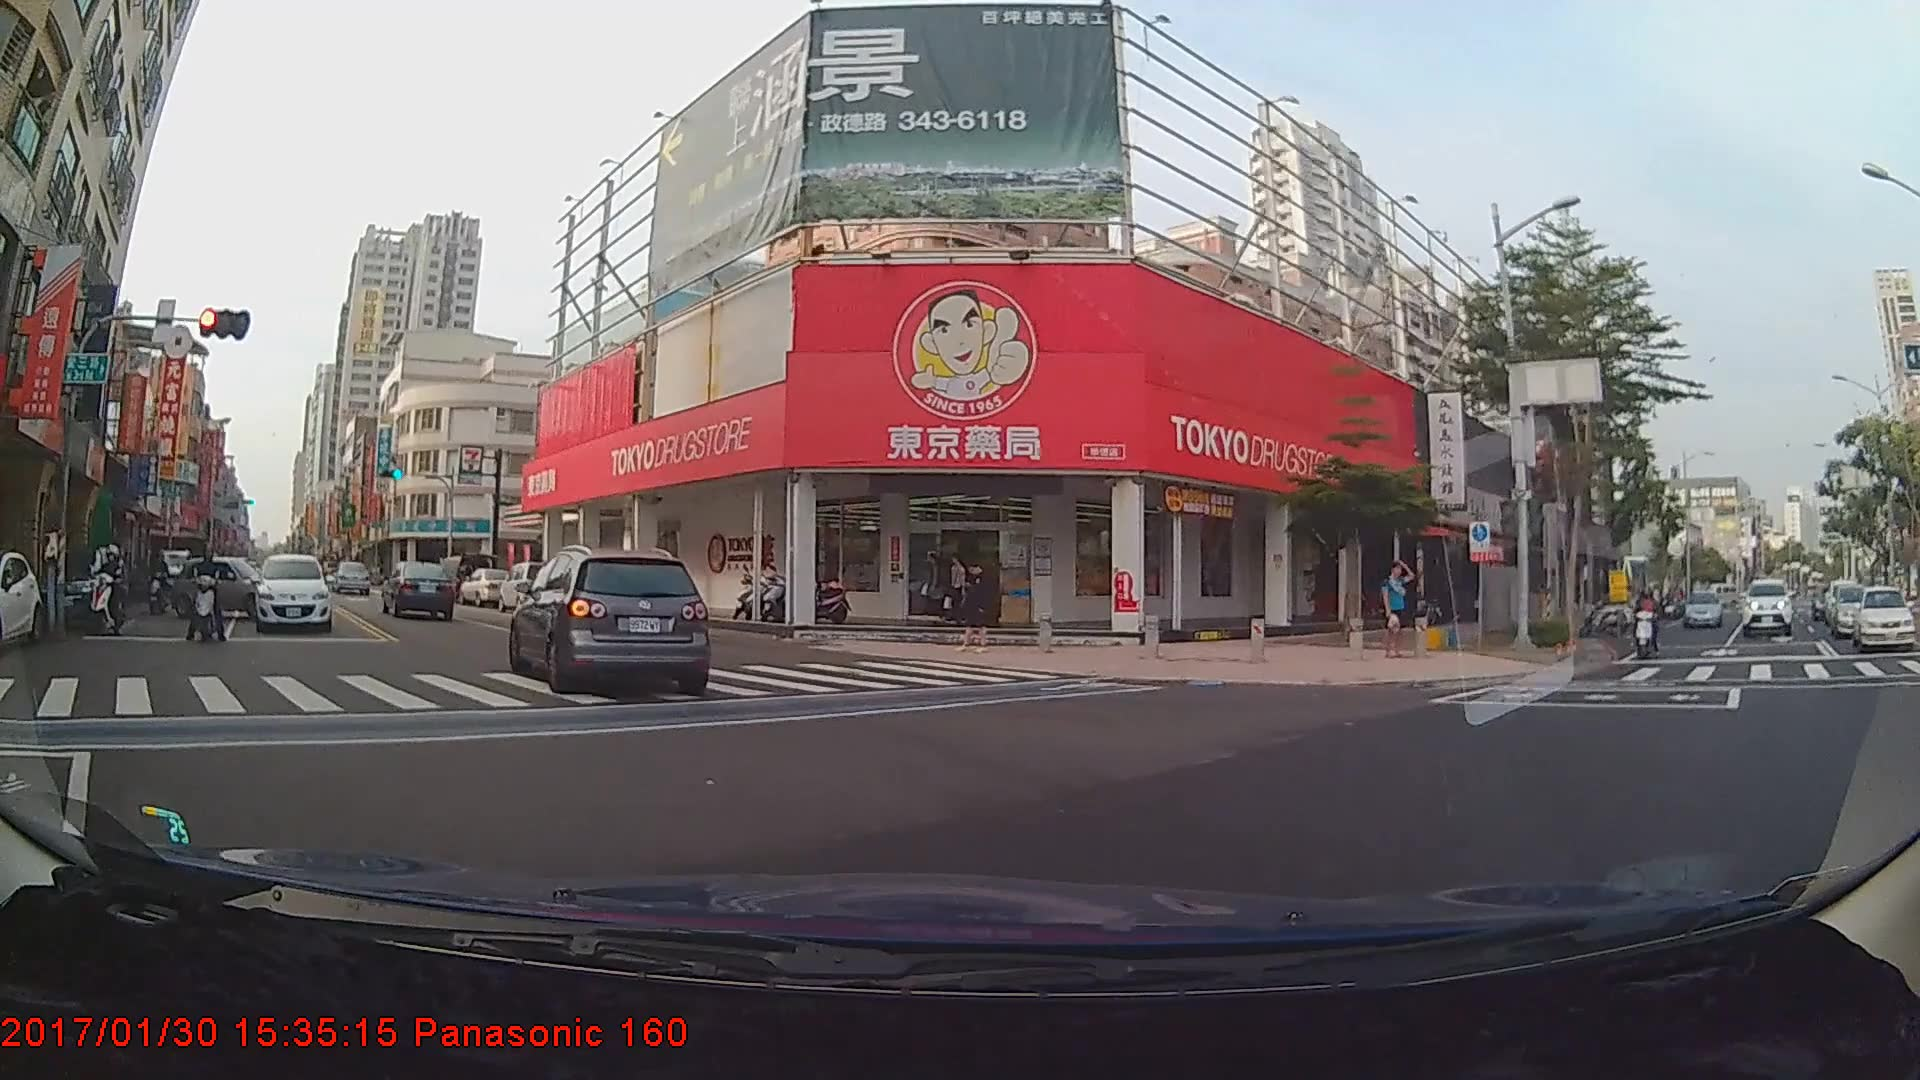pedestrian: (957, 563, 1000, 657), (1382, 558, 1418, 664), (920, 550, 953, 628), (946, 555, 968, 626)
rider: (180, 548, 230, 651), (83, 546, 137, 640), (1627, 588, 1665, 659)
vehicle: (511, 547, 708, 692), (168, 554, 284, 619), (251, 557, 332, 638), (1853, 584, 1917, 651), (383, 561, 454, 620), (495, 560, 562, 614), (1828, 581, 1890, 637), (1741, 578, 1791, 636), (457, 566, 517, 605), (1683, 589, 1724, 627)
